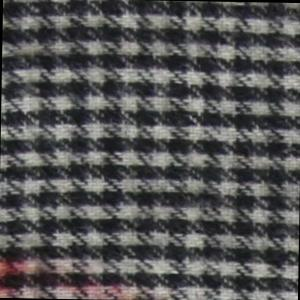Stain: (1, 249, 145, 300)
